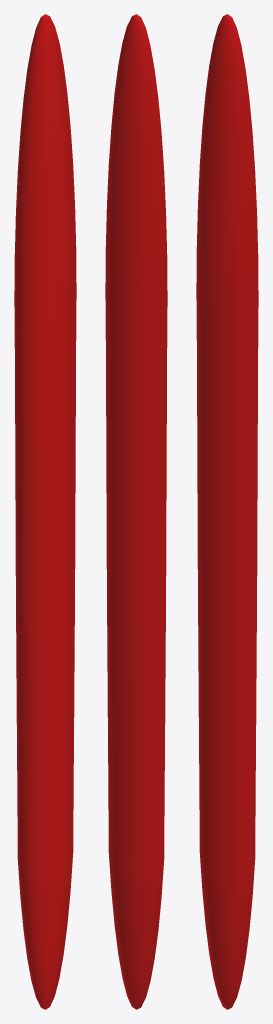
The model's file is Laser.fbx.
3 renders of one model, left to right at view 1: azimuth 30°, elevation 25°; view 2: azimuth 150°, elevation 25°; view 3: azimuth 330°, elevation 25°, orthographic.
Parts seen in each view (by area): view 1: pSphere1; view 2: pSphere1; view 3: pSphere1.
Part boxes in pixels (x1,y1,x2,y2): pSphere1: (14, 14, 76, 1009); pSphere1: (105, 14, 167, 1009); pSphere1: (196, 14, 258, 1009).
Bounding box in the file's own units: 0.2666 × 4.43 × 0.1992.
